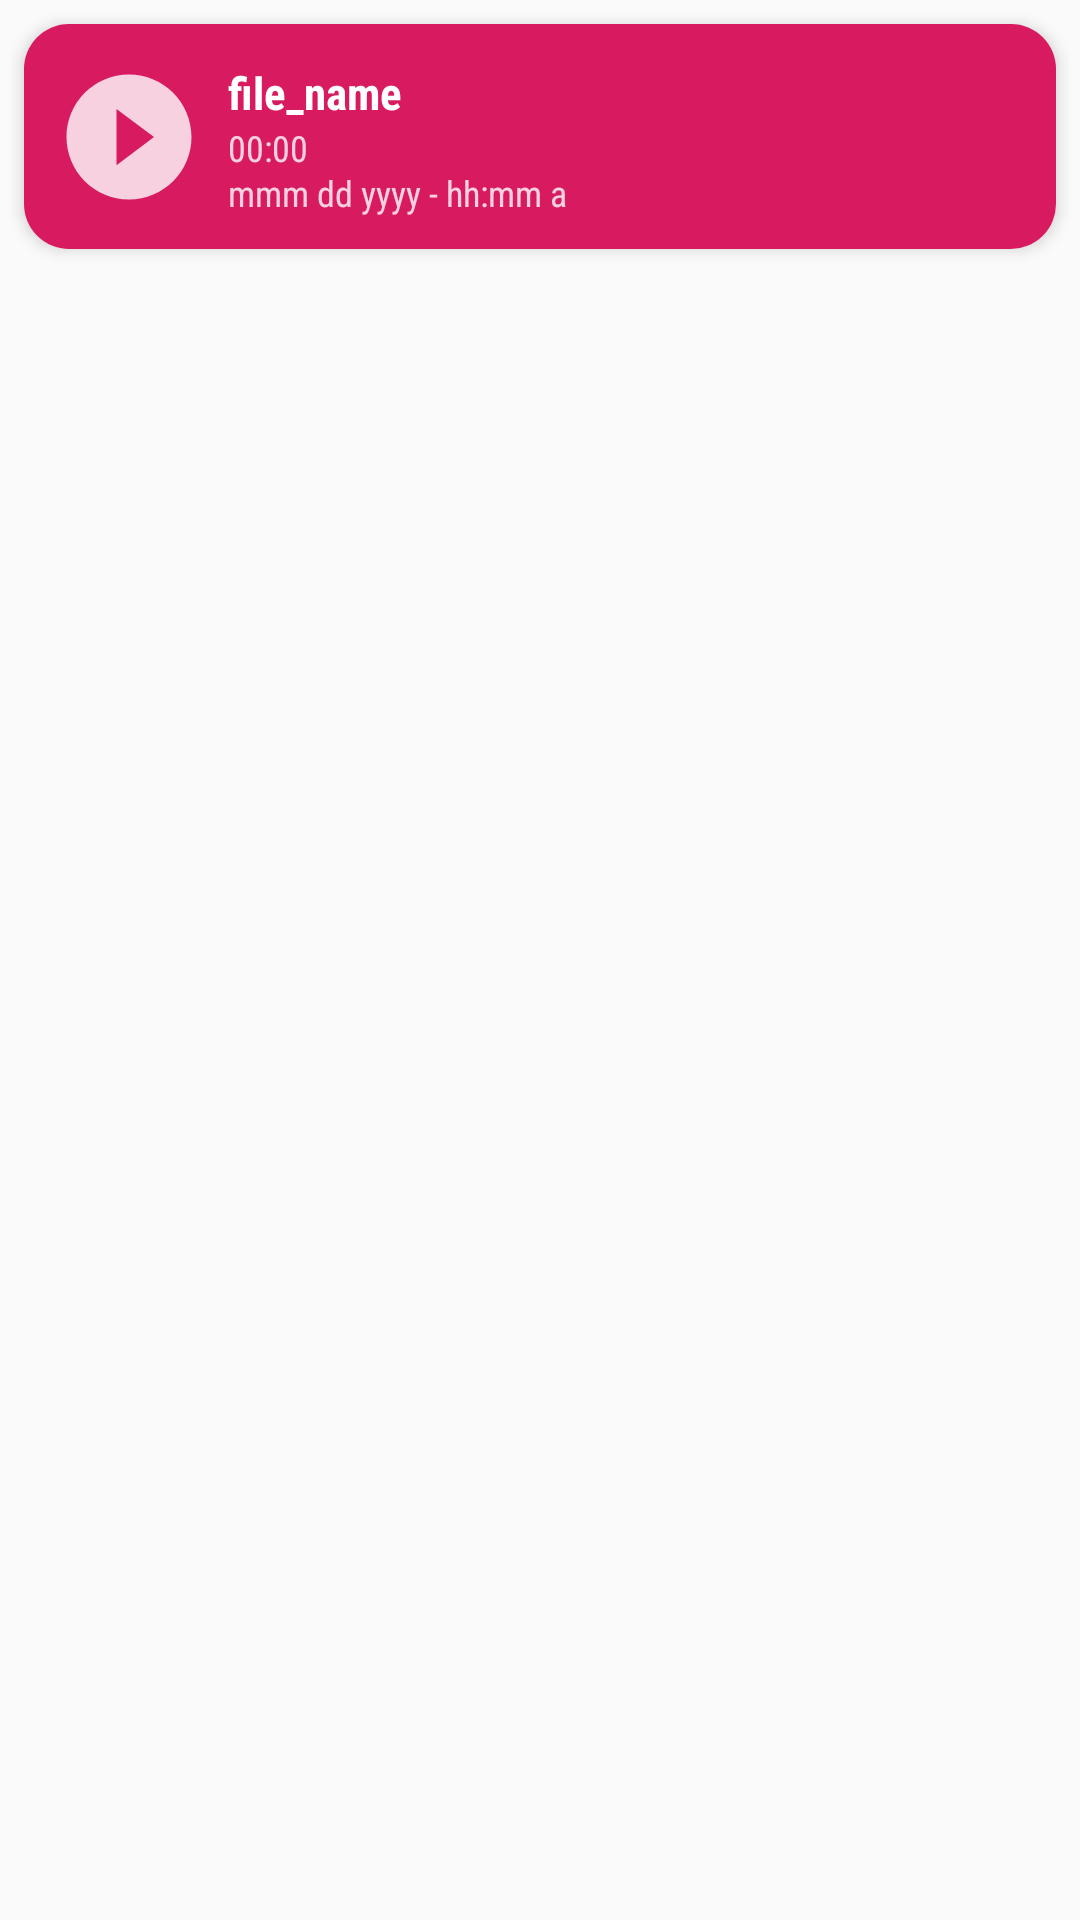

Where to tap for icons on this 1080x1920 app screen, as point (x, y):
play file: point (129, 137)
